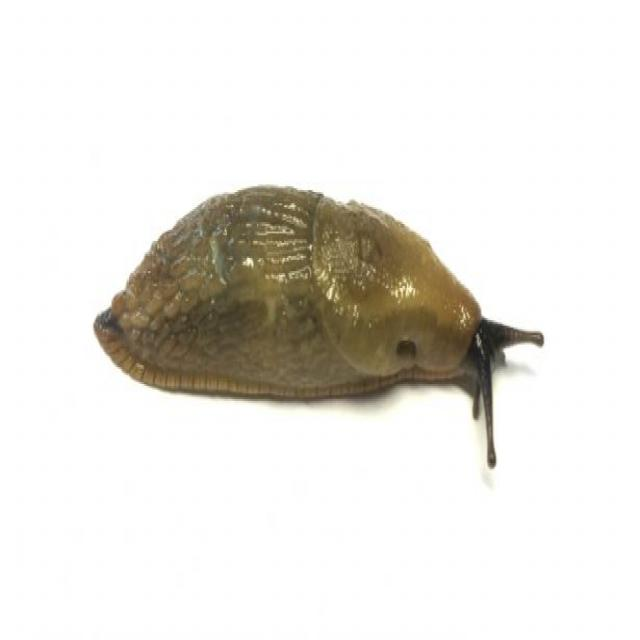slug: (80, 153, 553, 485)
